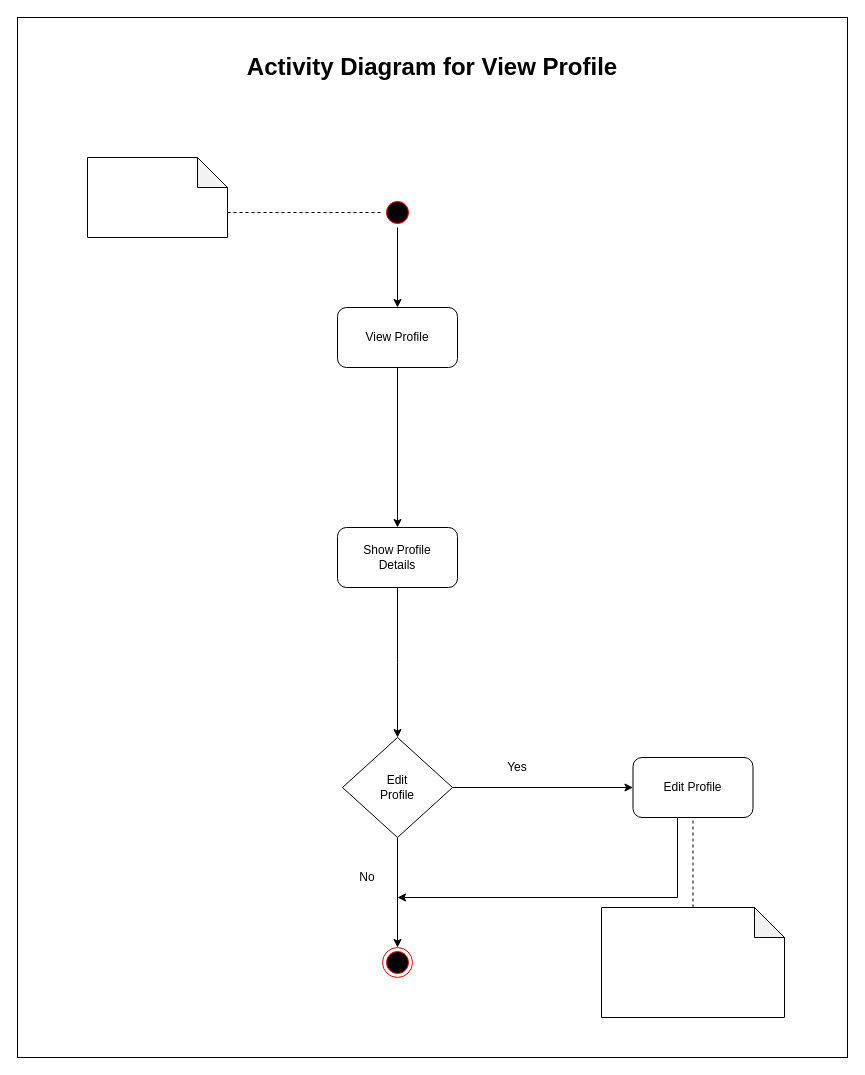
Image size: 865x1075. Some labels were removed from this diagram. Each missing label, with the box of its shape:
For all users Student/Admin/teacher/Content Manager: (600, 906, 784, 1018)
Logged in: (86, 156, 228, 238)
